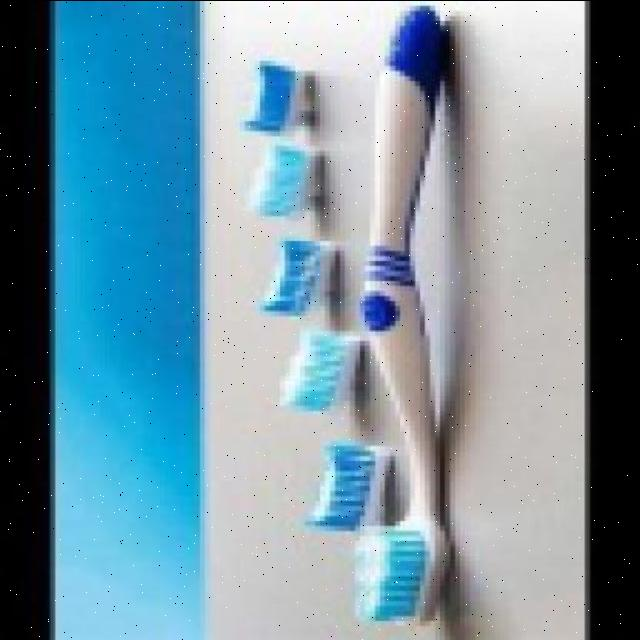toothbrush: (342, 8, 488, 636)
